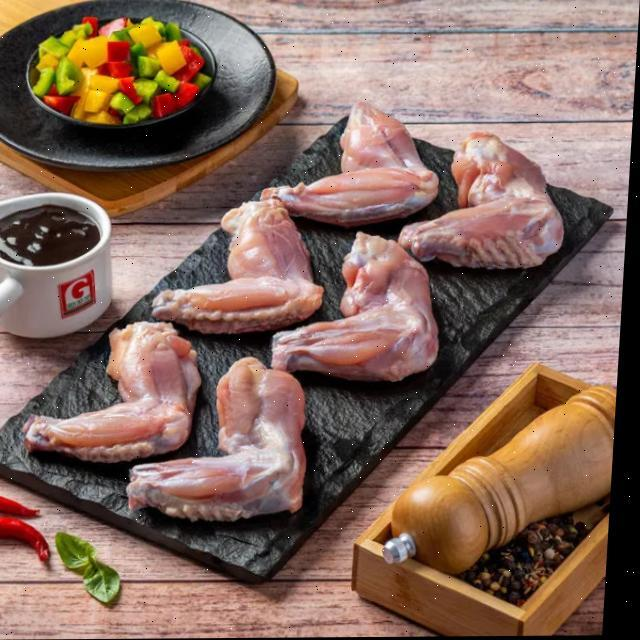wing: (148, 358, 325, 522), (39, 316, 201, 475), (416, 126, 574, 288), (175, 201, 331, 343), (290, 252, 439, 380), (296, 94, 431, 235)
